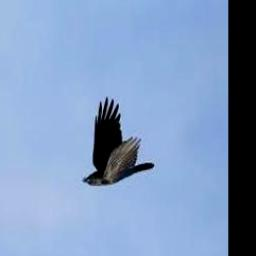Crow: (82, 97, 154, 186)
